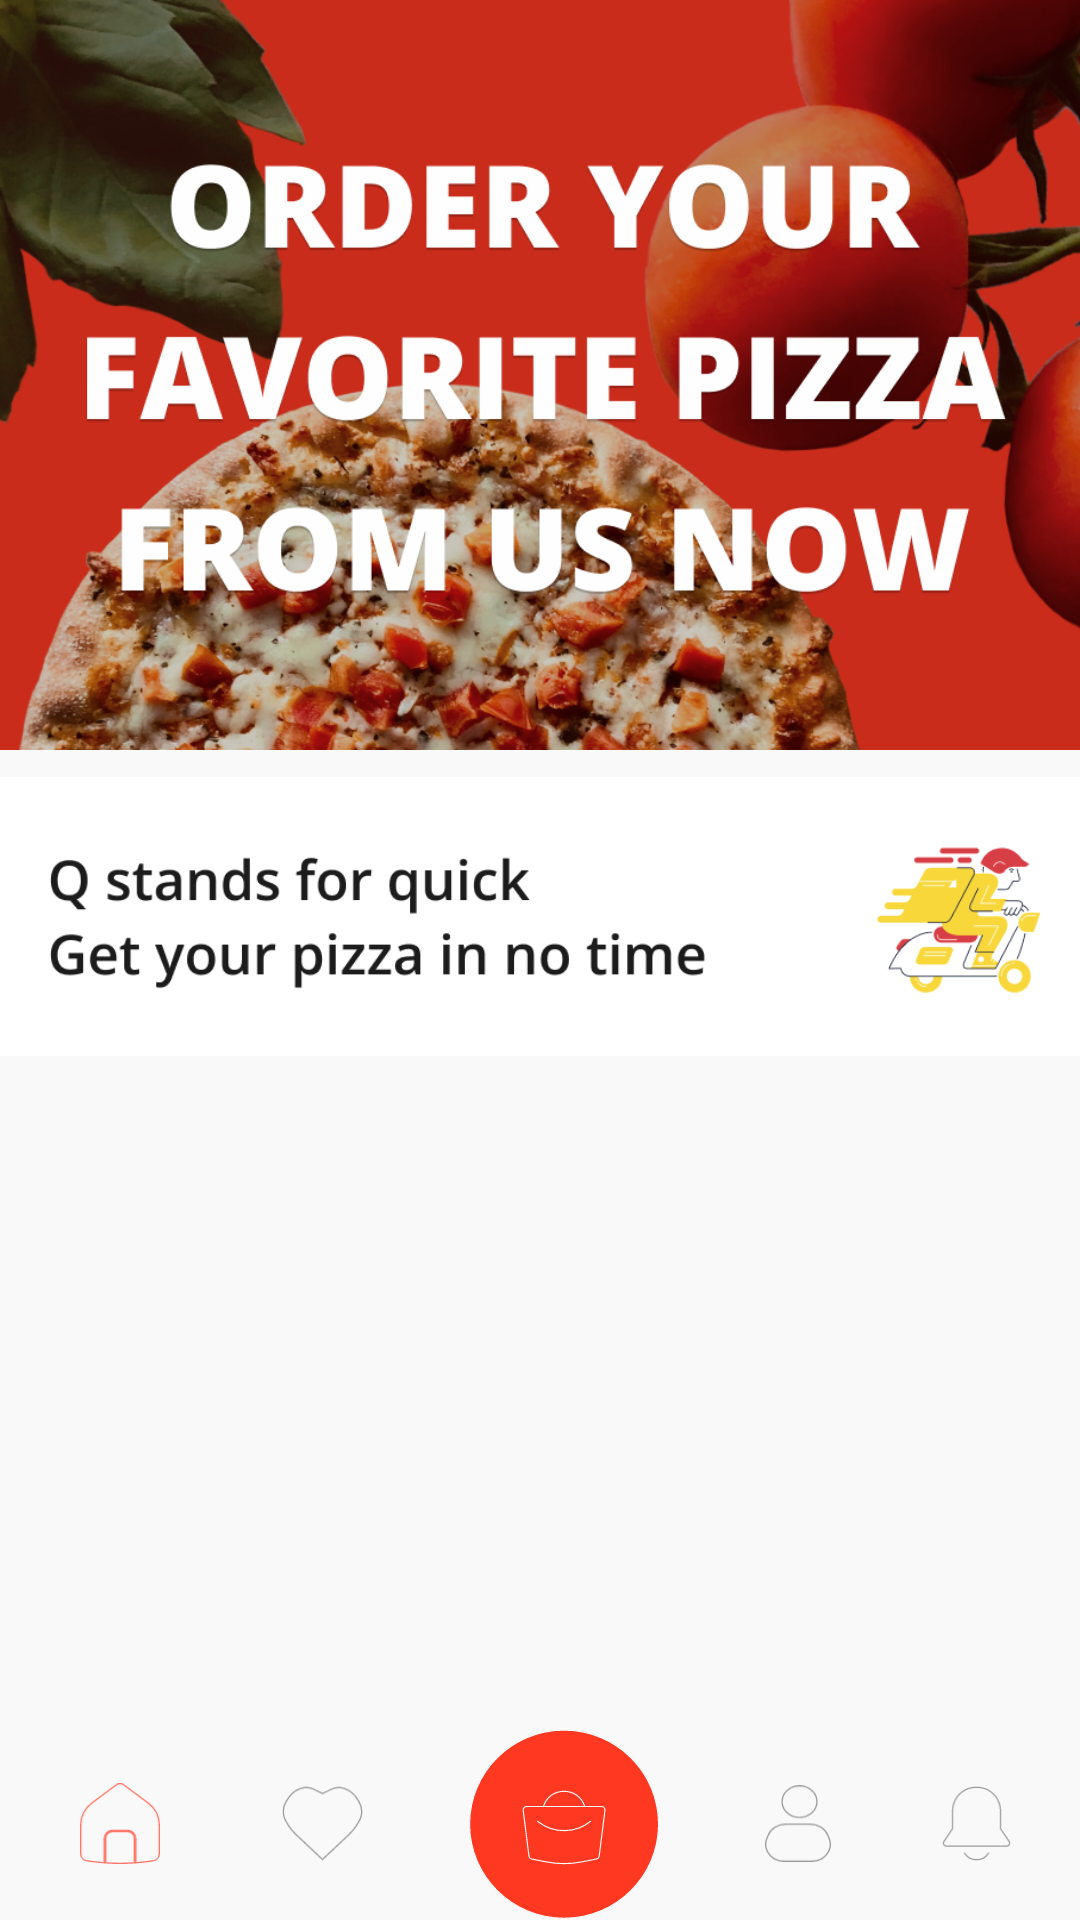

Where icons sit on this 1080 x 1920 app screen, as (x1, y1, x2, y2):
account: (765, 1785, 831, 1862)
cart: (470, 1730, 658, 1919)
favorite: (283, 1786, 362, 1861)
home: (80, 1783, 160, 1864)
notification: (942, 1787, 1010, 1860)
